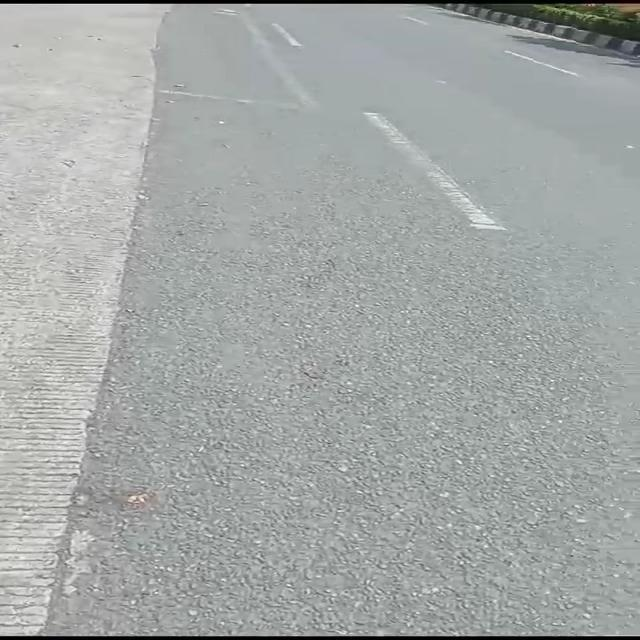Sambungan: (0, 0, 172, 640)
